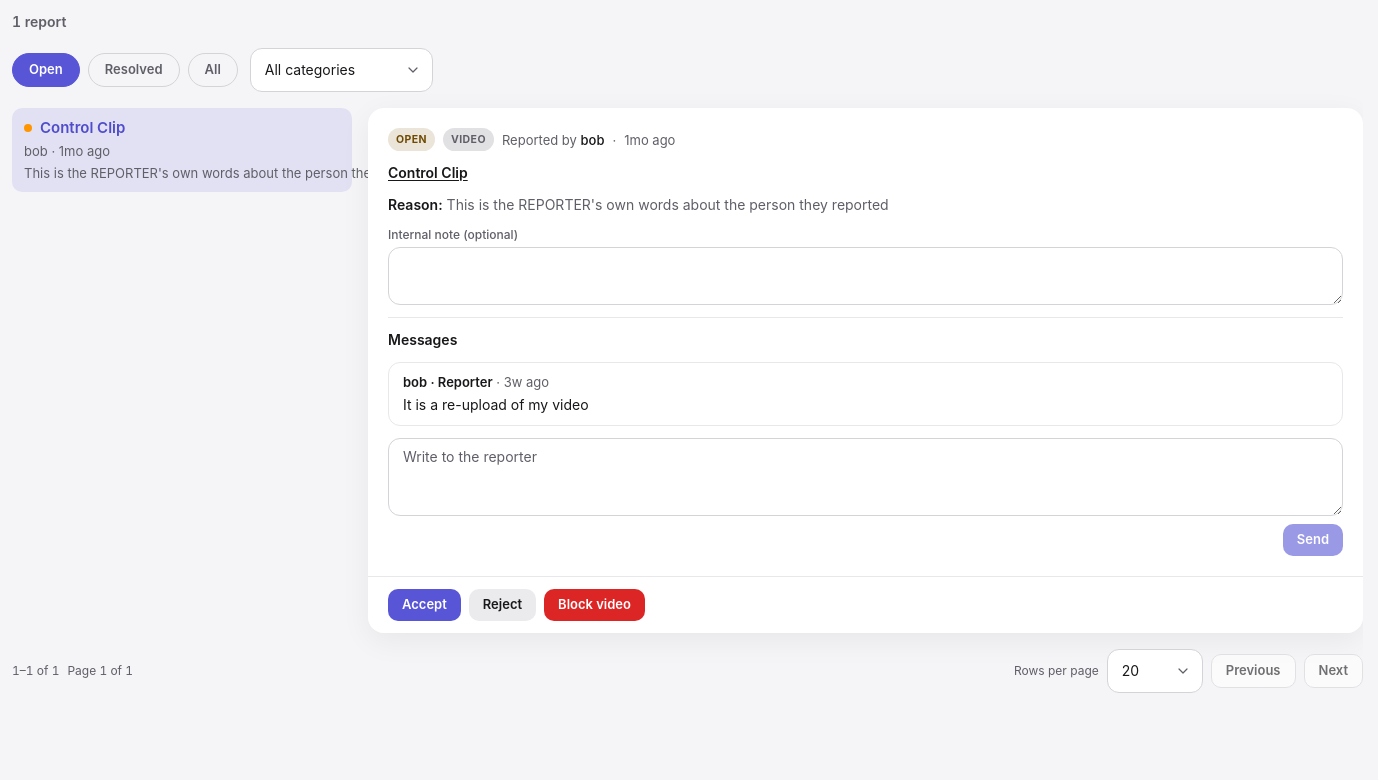
Test: ModerationQueue — the report's message thread › shows staff the thread with who wrote each message, and lets them reply to the reporter
The width and height of the screenshot is (1378, 780).
Check: the element named "Messages about this report" shows "bob · Reporter", box [403, 374, 493, 390]
Check: the element named "Messages about this report" shows "It is a re-upload of my video", box [403, 396, 589, 413]
In the text box named "Message": (866, 477) [388, 438, 1343, 516], type "Thanks, looking now"
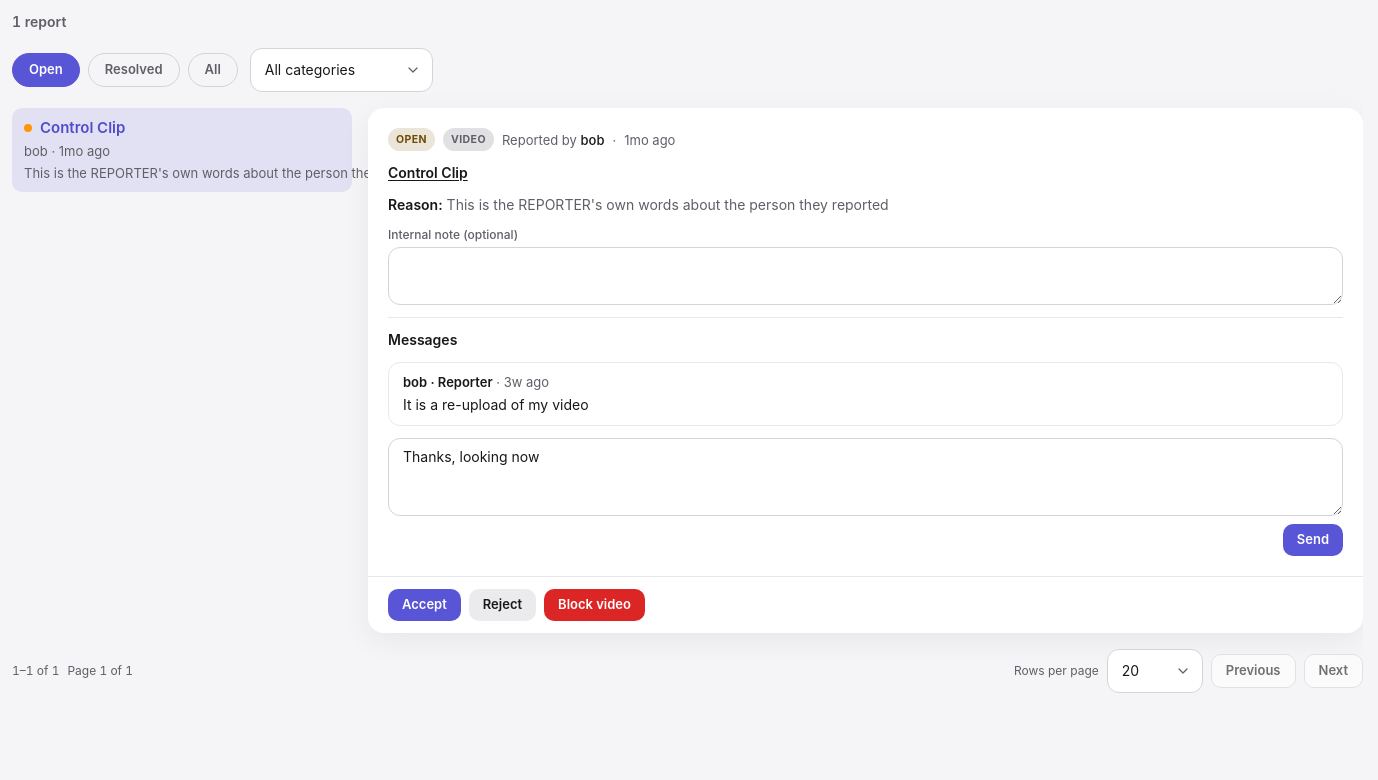
Click the button "Send": click(1313, 540) [1283, 524, 1343, 556]
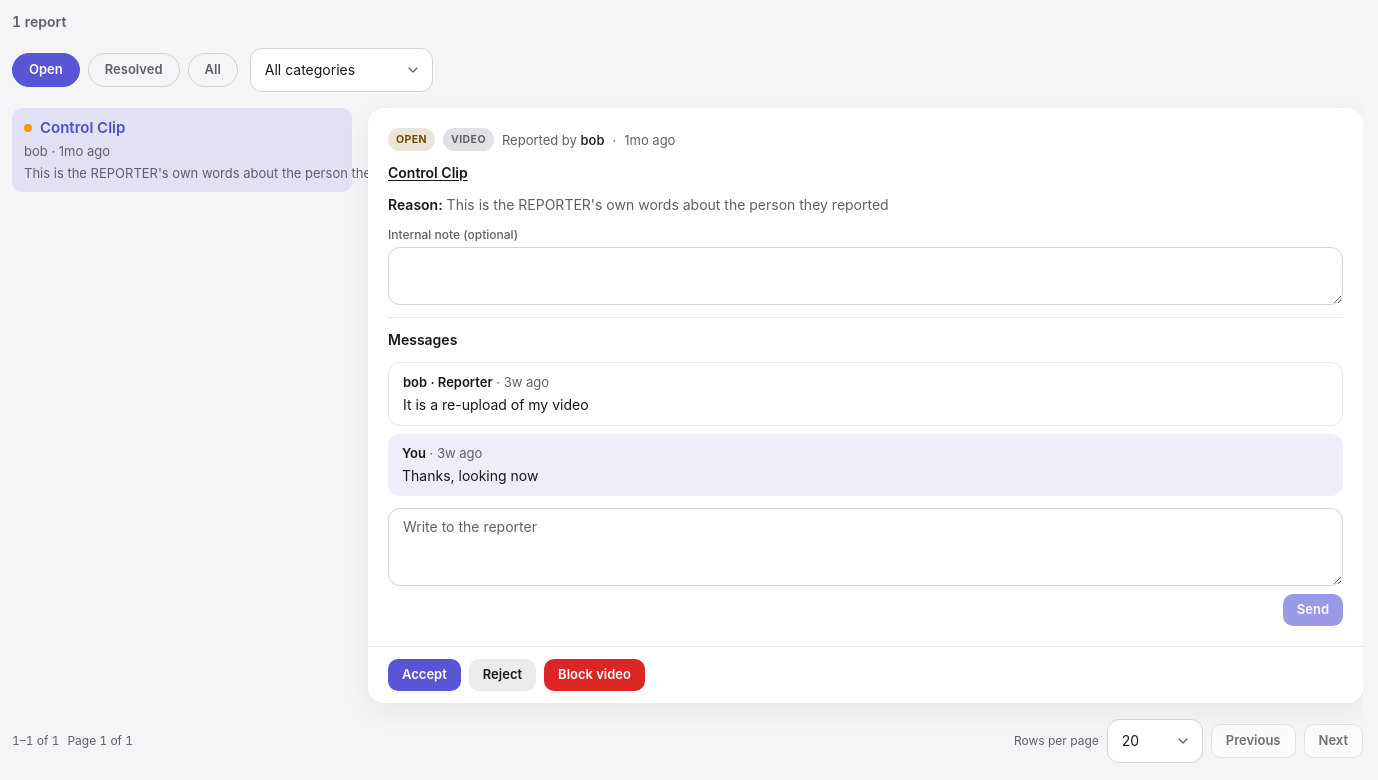
Check: the text "Thanks, looking now" is shown, box [402, 467, 538, 484]
